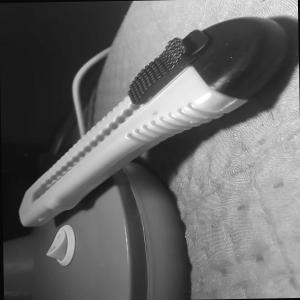estilete: (13, 15, 292, 228)
